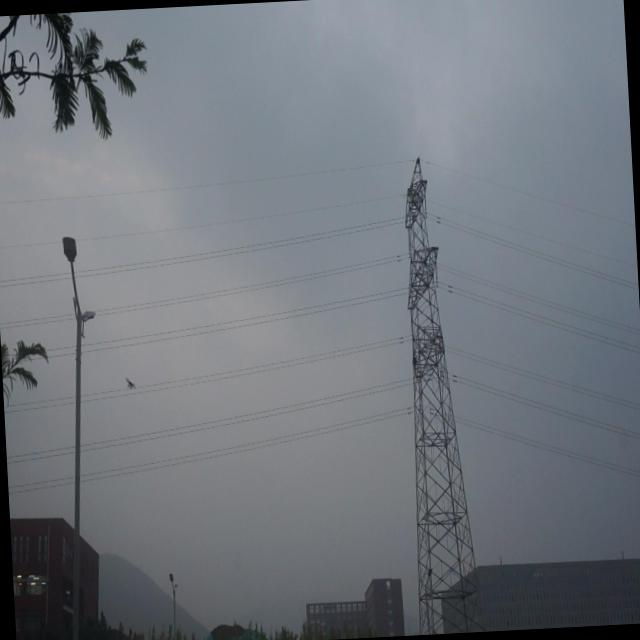drone: (122, 374, 138, 394)
